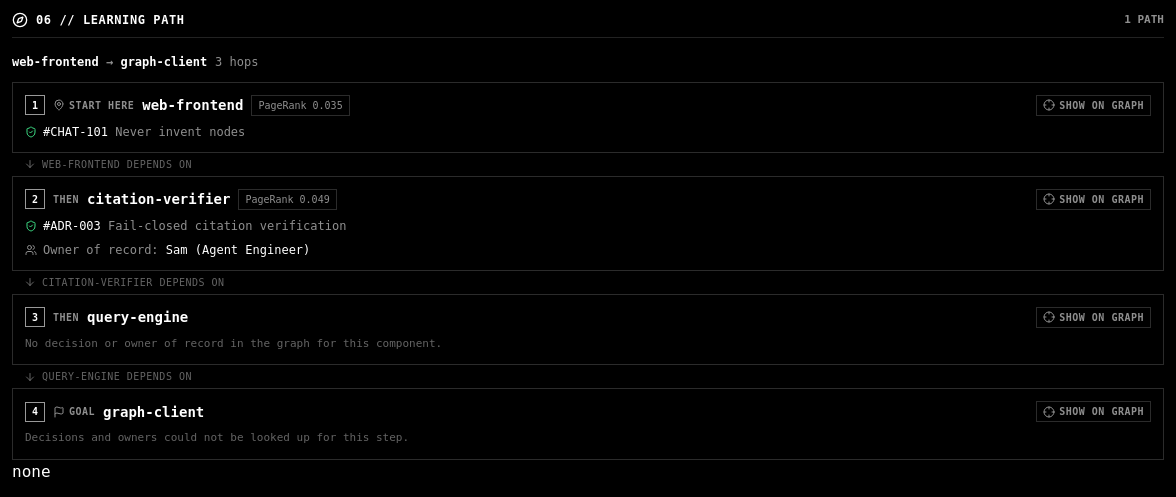
Scenario: LearningPathView (5.5) › "Show on graph" focuses the hop on the canvas (same focus mechanism as the citations)
Expected: the text with test id "probe" reads "none", [12,462,50,480]
Click the button with test id "learning-path-focus": (1094, 199) [1036,188,1151,210]
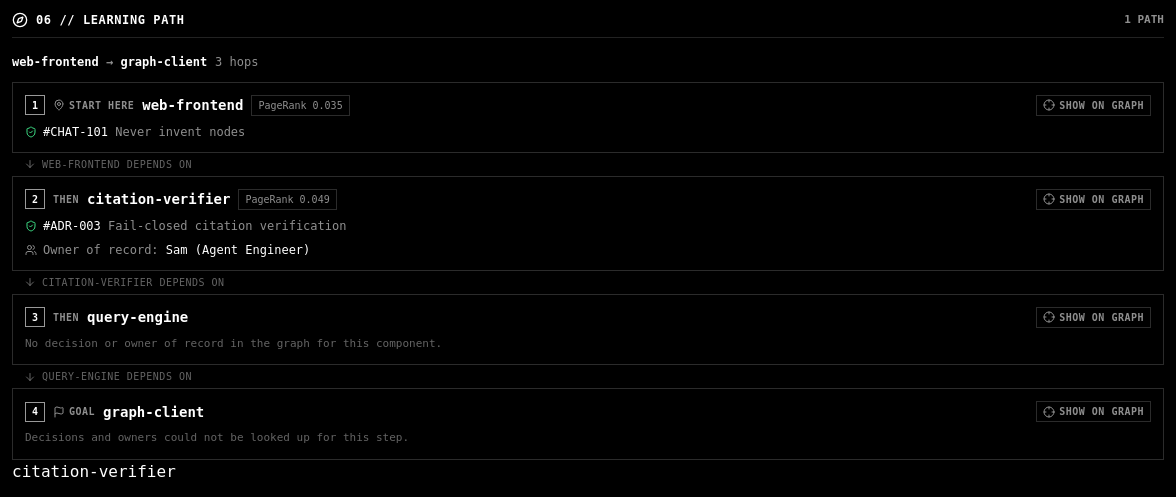
Result: the text with test id "probe" reads "citation-verifier" at [12,462,176,480]
